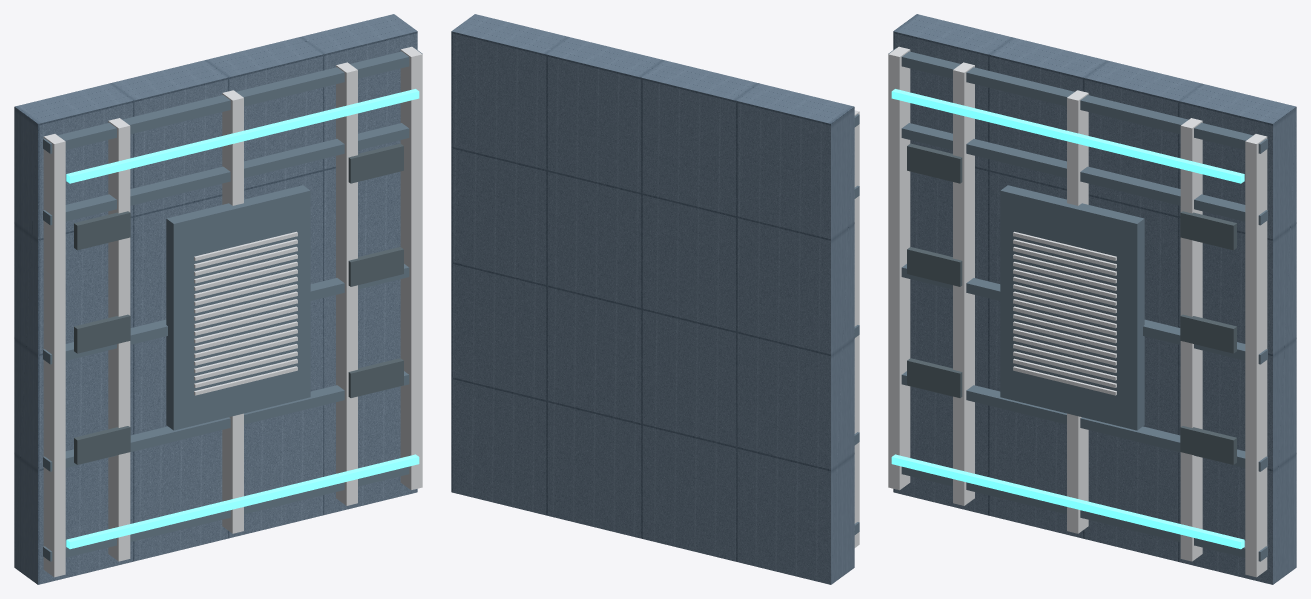
Rendered from pressure_bulkhead_5m.glb.
The picture shows the model from 3 angles, left to right: view 1: azimuth 30°, elevation 25°; view 2: azimuth 150°, elevation 25°; view 3: azimuth 330°, elevation 25°; orthographic projection.
Parts seen in each view (by area): view 1: pressure_bulkhead_5m_000, pressure_bulkhead_5m_017, pressure_bulkhead_5m_001, pressure_bulkhead_5m_005, pressure_bulkhead_5m_004, pressure_bulkhead_5m_002, pressure_bulkhead_5m_010, pressure_bulkhead_5m_009, pressure_bulkhead_5m_003, pressure_bulkhead_5m_038, pressure_bulkhead_5m_037, pressure_bulkhead_5m_007 (+27 smaller); view 2: pressure_bulkhead_5m_000, pressure_bulkhead_5m_001; view 3: pressure_bulkhead_5m_000, pressure_bulkhead_5m_017, pressure_bulkhead_5m_005, pressure_bulkhead_5m_001, pressure_bulkhead_5m_002, pressure_bulkhead_5m_004, pressure_bulkhead_5m_010, pressure_bulkhead_5m_009, pressure_bulkhead_5m_003, pressure_bulkhead_5m_038, pressure_bulkhead_5m_037, pressure_bulkhead_5m_007 (+27 smaller).
Part boxes in pixels (x1,y1,x2,y2): pressure_bulkhead_5m_000: (14, 14, 417, 584); pressure_bulkhead_5m_017: (166, 185, 310, 430); pressure_bulkhead_5m_001: (43, 134, 65, 577); pressure_bulkhead_5m_005: (400, 46, 422, 490); pressure_bulkhead_5m_004: (336, 62, 357, 505); pressure_bulkhead_5m_002: (108, 118, 130, 561); pressure_bulkhead_5m_010: (43, 48, 422, 153); pressure_bulkhead_5m_009: (43, 123, 409, 225); pressure_bulkhead_5m_003: (222, 90, 243, 533); pressure_bulkhead_5m_038: (66, 89, 419, 183); pressure_bulkhead_5m_037: (66, 454, 419, 549); pressure_bulkhead_5m_007: (43, 371, 409, 471); pressure_bulkhead_5m_000: (451, 14, 854, 584); pressure_bulkhead_5m_001: (854, 110, 859, 547); pressure_bulkhead_5m_000: (893, 14, 1296, 584); pressure_bulkhead_5m_017: (1000, 185, 1144, 430); pressure_bulkhead_5m_005: (1245, 134, 1267, 577); pressure_bulkhead_5m_001: (888, 46, 910, 490); pressure_bulkhead_5m_002: (953, 62, 974, 505); pressure_bulkhead_5m_004: (1180, 118, 1202, 561); pressure_bulkhead_5m_010: (888, 48, 1267, 153); pressure_bulkhead_5m_009: (901, 123, 1267, 225); pressure_bulkhead_5m_003: (1067, 90, 1088, 533); pressure_bulkhead_5m_038: (891, 89, 1244, 183); pressure_bulkhead_5m_037: (891, 454, 1244, 549); pressure_bulkhead_5m_007: (901, 371, 1267, 471).
Size of the model in its own units: 5 by 5.8 by 0.966.
5 materials, 1 textured.
